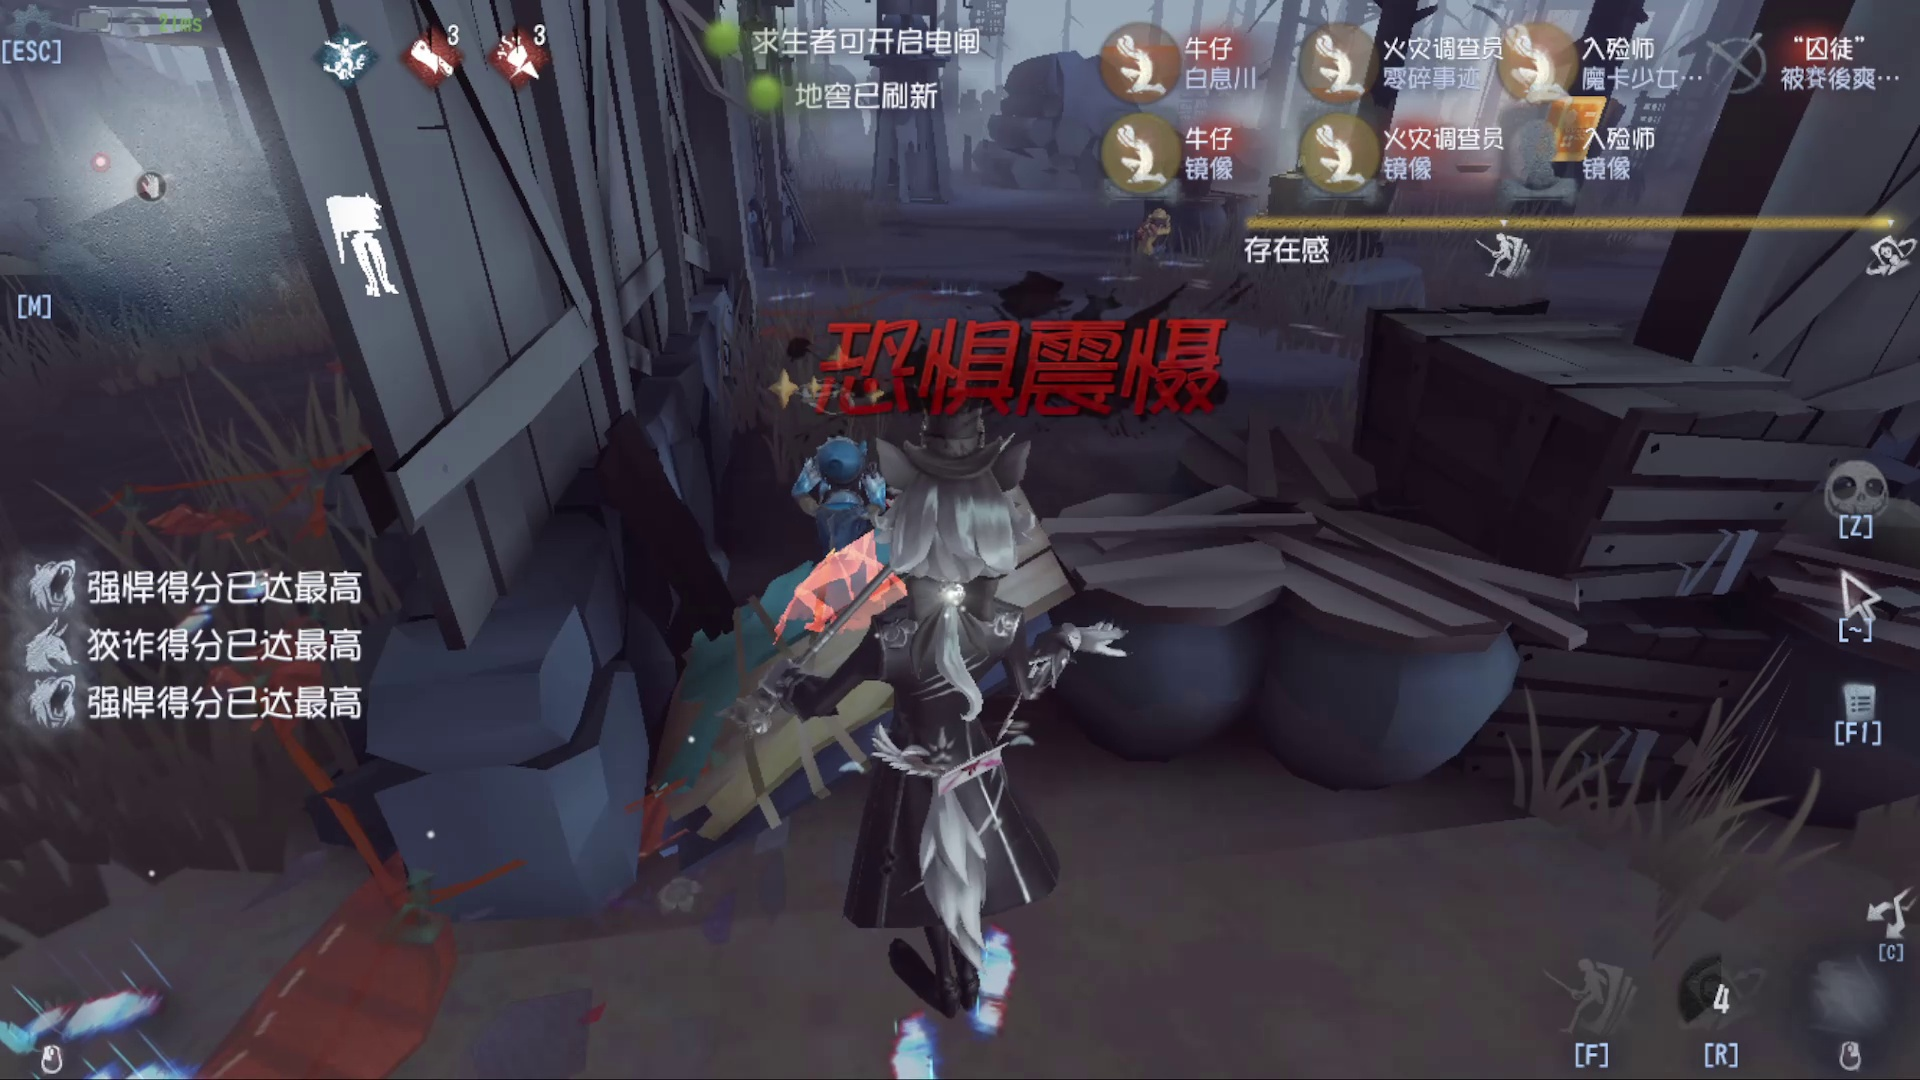木板: (645, 553, 1080, 762)
求生者: (782, 431, 934, 553), (1118, 185, 1191, 278)
